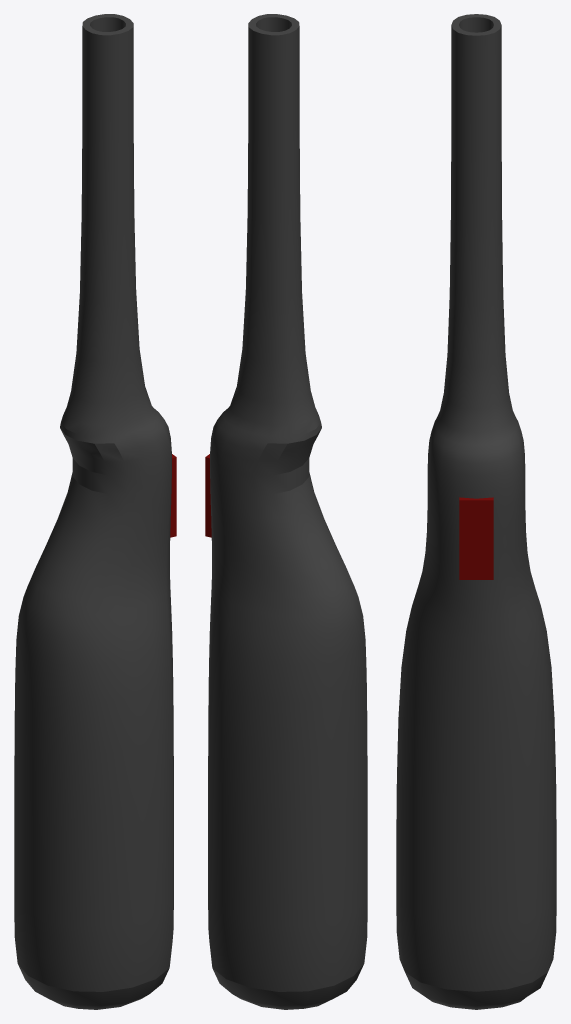
Rendered from lighter.fbx.
The picture shows the model from 3 angles, left to right: view 1: azimuth 30°, elevation 25°; view 2: azimuth 150°, elevation 25°; view 3: azimuth 270°, elevation 25°; orthographic projection.
Parts seen in each view (by area): view 1: lighter; view 2: lighter; view 3: lighter.
Part boxes in pixels (x1,y1,x2,y2): lighter: (14, 14, 176, 1009); lighter: (205, 14, 367, 1009); lighter: (396, 14, 556, 1009).
Bounding box in the file's own units: 51.46 × 333 × 49.53.
